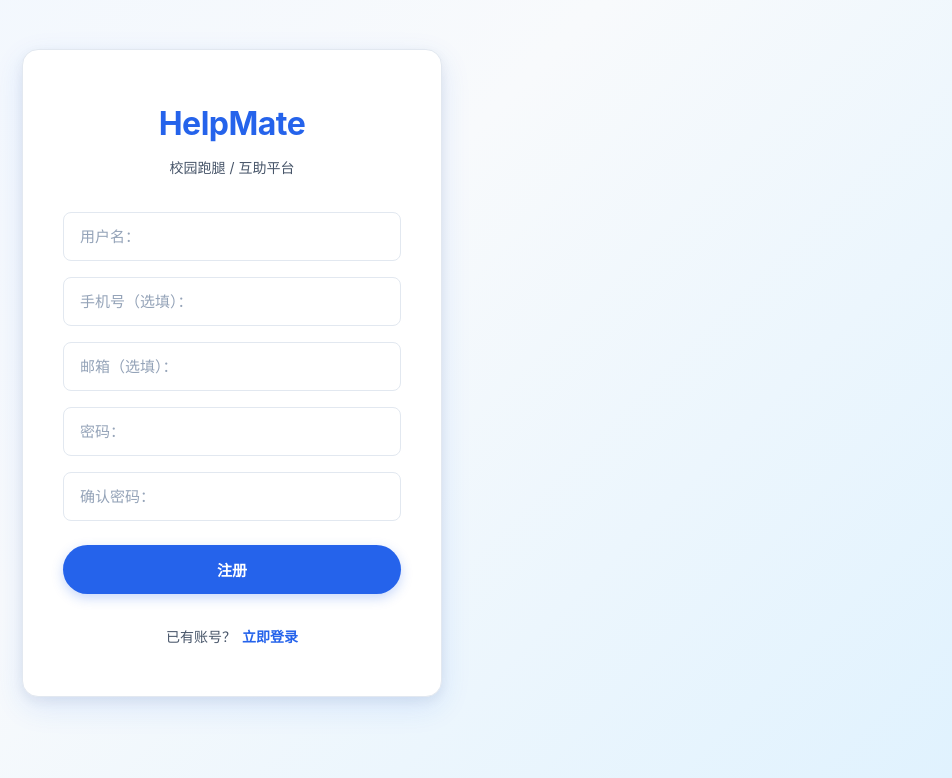
Register Component › 密码不一致时应该显示错误
The image size is (952, 778).
Type "testuser" into the field with placeholder "用户名：". click: (232, 236)
box: [63,212,401,261]
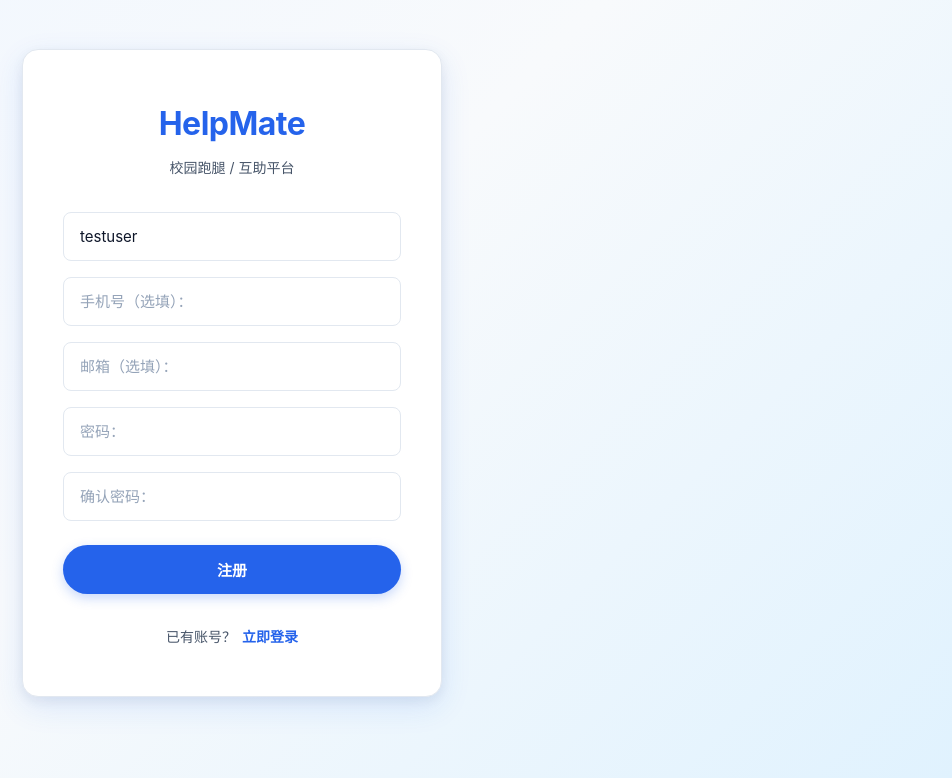
Type "123456" into the password field with placeholder "密码：". click: (232, 431)
box: [63,407,401,456]
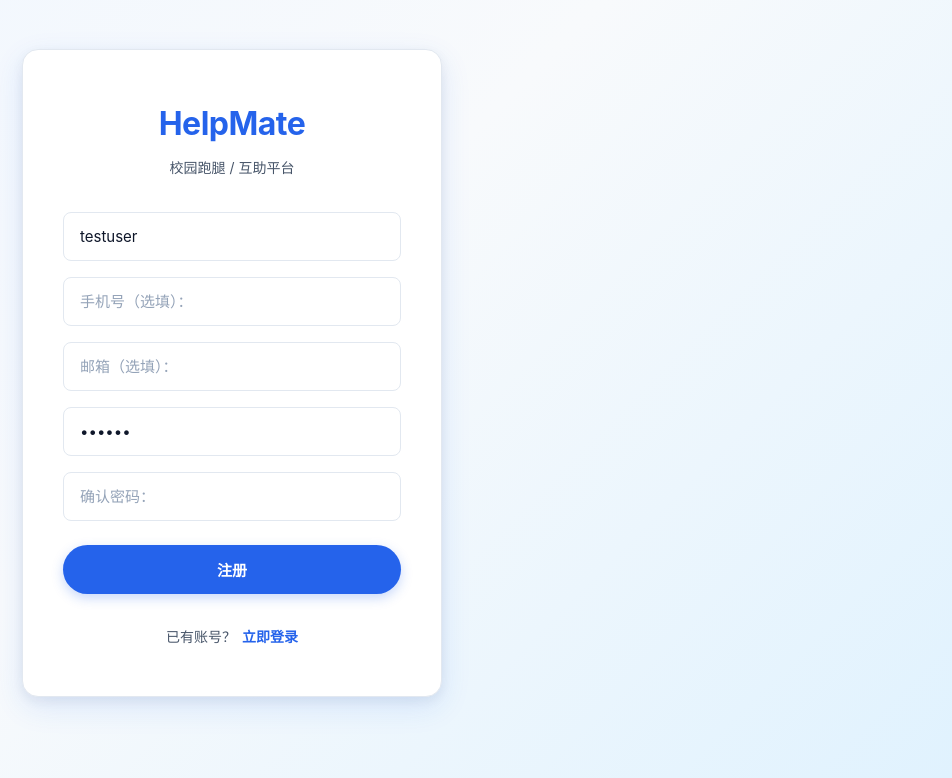
Type "654321" into the password field with placeholder "确认密码：". click: (232, 496)
box: [63,472,401,521]
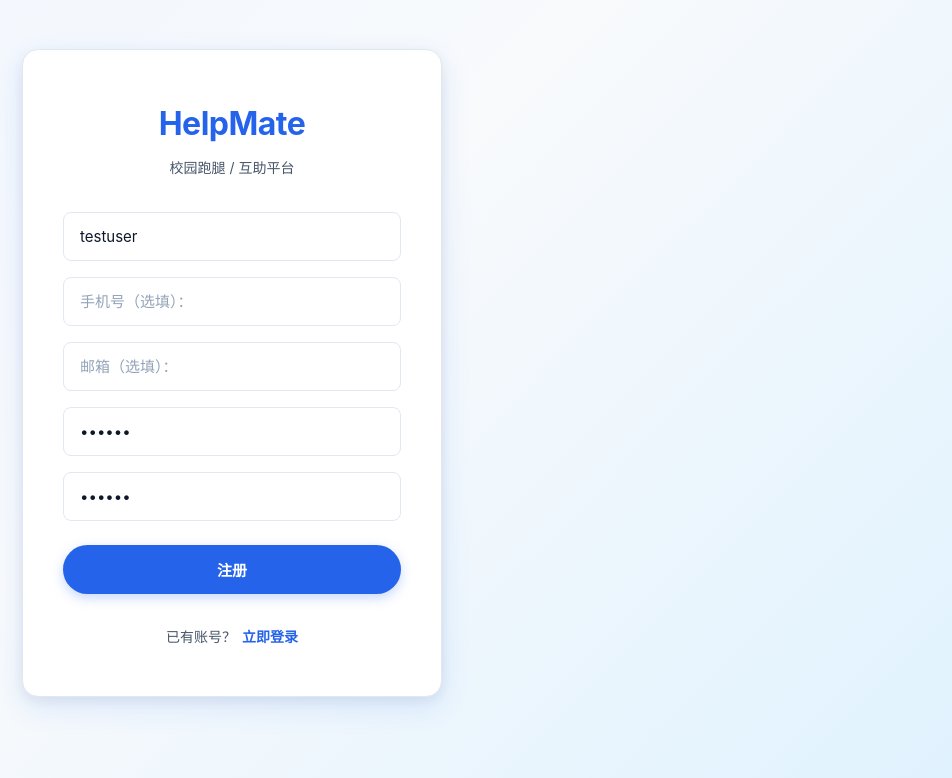
Click the button "注册". click: (232, 569)
box: [63,545,401,594]
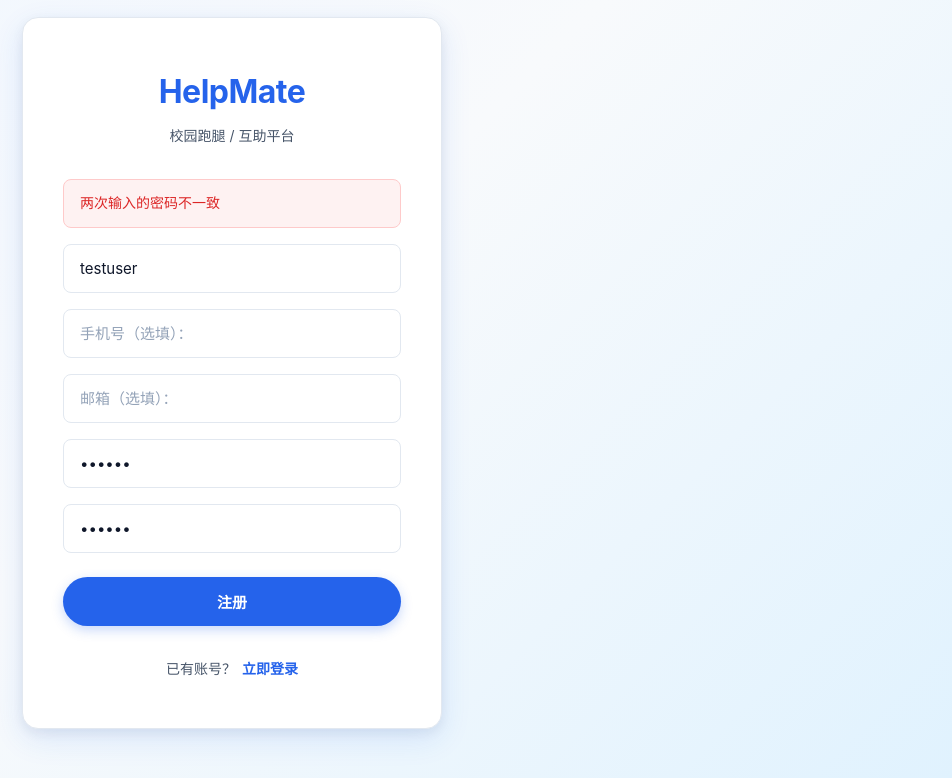
Expected: the text "两次输入的密码不一致" is shown, [63,179,401,228]
